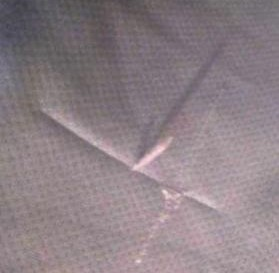snag: (123, 124, 178, 185)
